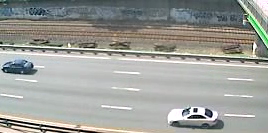car: (164, 103, 221, 129), (1, 58, 38, 76)
